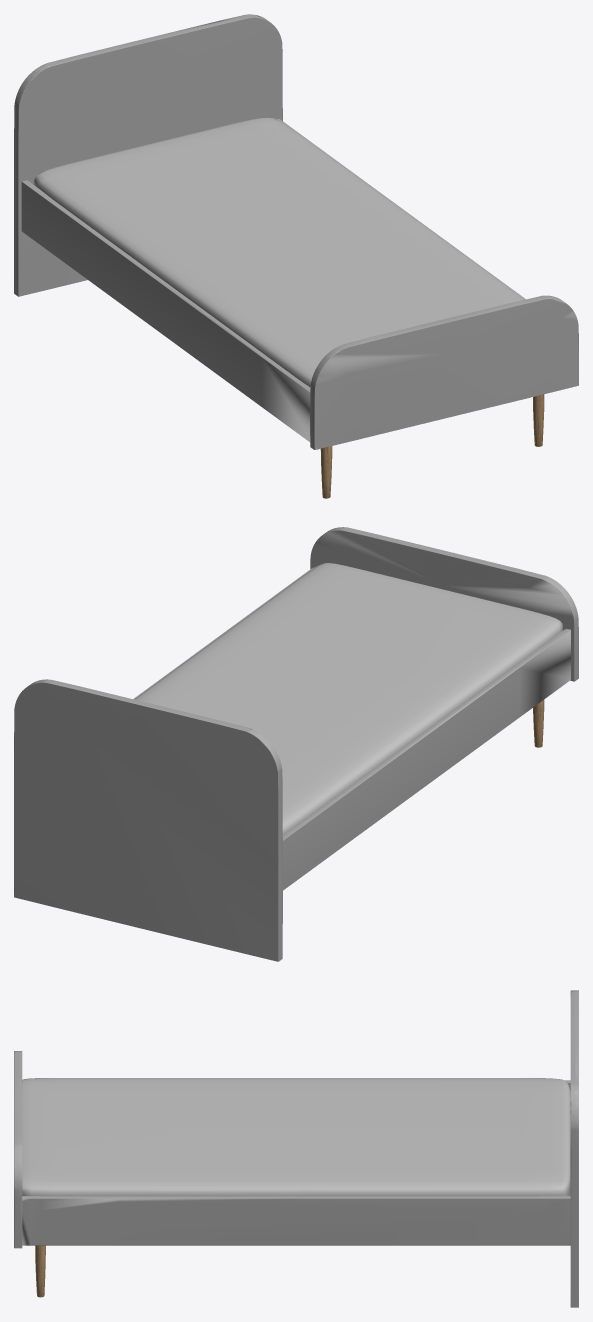
File: bed-single.glb
The picture shows the model from 3 angles, top to bottom: view 1: azimuth 30°, elevation 25°; view 2: azimuth 150°, elevation 25°; view 3: azimuth 270°, elevation 25°; orthographic projection. The views are drawn at different scales.
Parts seen in each view (by area): view 1: RootNode; view 2: RootNode; view 3: RootNode.
Part boxes in pixels (left/top/right/bottom): RootNode: left=14, top=14, right=578, bottom=498; RootNode: left=14, top=527, right=578, bottom=961; RootNode: left=14, top=990, right=578, bottom=1307.
Size of the model in its own units: 0.9981 by 0.8047 by 1.96.
Materials: 1 (1 with a texture image).
